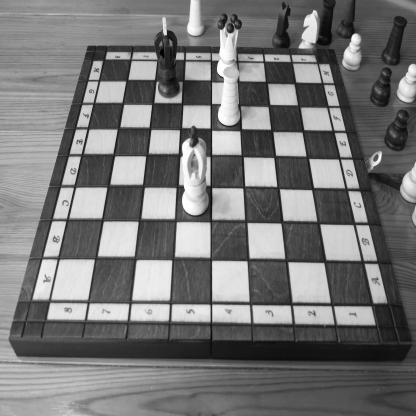black-bishop: (336, 0, 356, 39)
black-king: (154, 17, 180, 98)
black-knight: (272, 1, 291, 49)
black-pawn: (383, 108, 409, 152), (370, 66, 392, 108)
black-rook: (380, 15, 408, 66), (316, 0, 336, 46)
white-king: (181, 125, 210, 217)
white-knight: (298, 9, 320, 50)
white-pawn: (342, 33, 362, 72), (396, 63, 415, 104), (399, 161, 416, 204)
white-queen: (217, 12, 242, 78)
white-rook: (217, 66, 241, 127), (186, 0, 205, 37)
